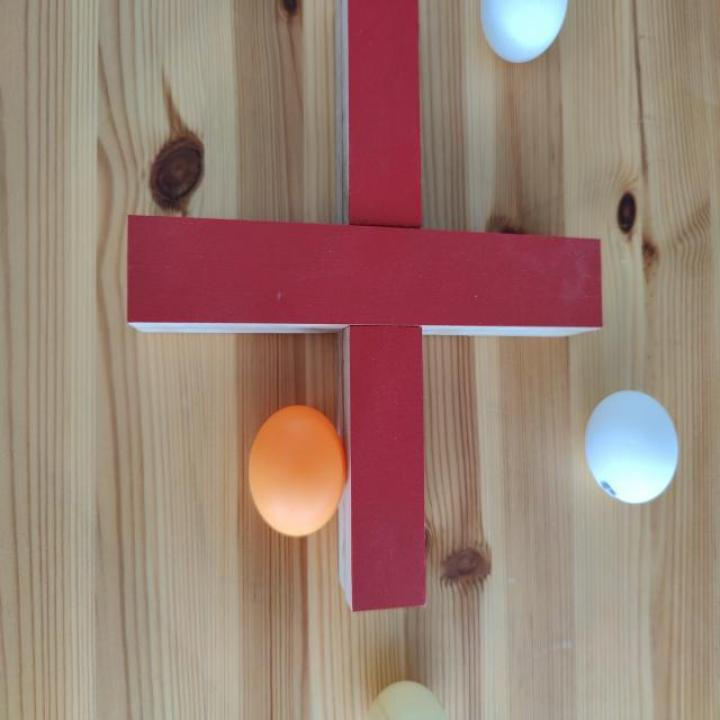orange: (247, 405, 348, 540)
white: (588, 393, 678, 506), (477, 0, 571, 67), (365, 681, 450, 720)
